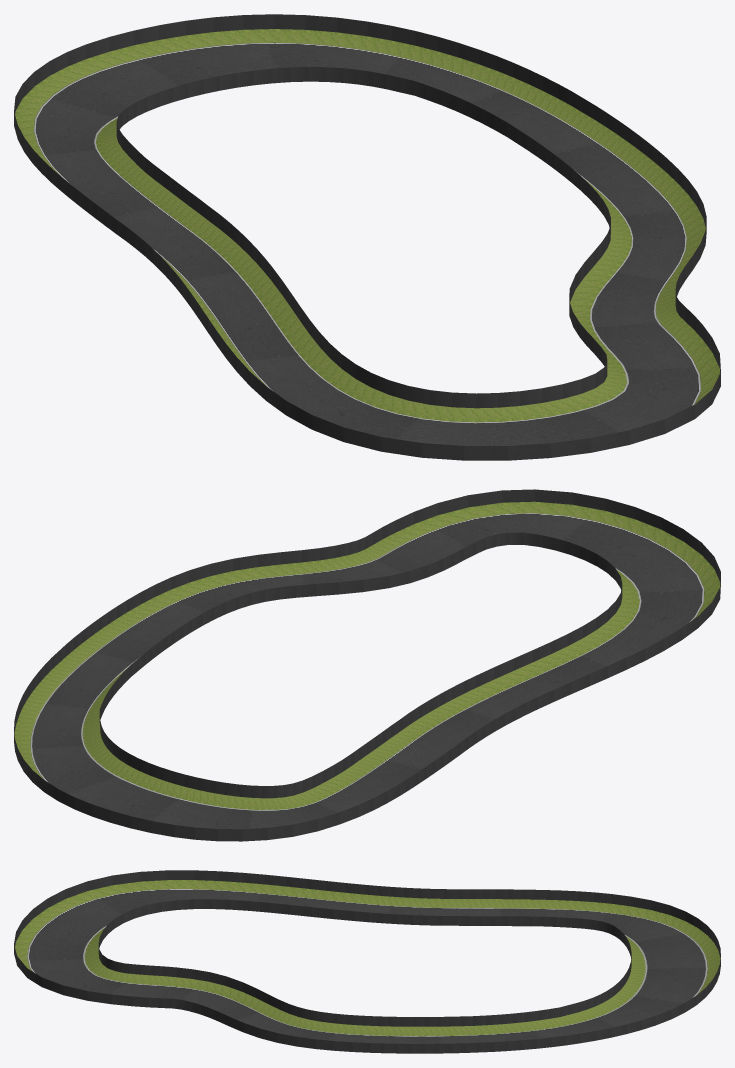
Rendered from Track.dae.
3 renders of one model, top to bottom at view 1: azimuth 30°, elevation 25°; view 2: azimuth 150°, elevation 25°; view 3: azimuth 270°, elevation 25°, orthographic. The views are drawn at different scales.
Visible parts, largest first — view 1: g Road, g Wall (×2), g Grass (×2); view 2: g Road, g Wall (×2), g Grass (×2); view 3: g Wall (×2), g Road, g Grass (×2).
Part boxes in pixels (x1,y1,x2,y2): g Road: (33, 42, 701, 445); g Wall (×2): (14, 14, 720, 460); g Grass (×2): (15, 29, 719, 422); g Road: (30, 513, 704, 829); g Wall (×2): (14, 489, 720, 841); g Grass (×2): (14, 501, 720, 809); g Wall (×2): (14, 870, 720, 1053); g Road: (27, 889, 707, 1043); g Grass (×2): (15, 880, 720, 1036).
Size of the model in its own units: 0.581 by 0.0208 by 1.
